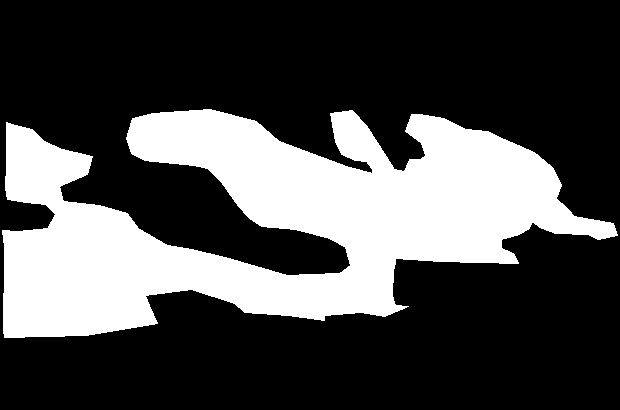type2: (1, 102, 618, 337)
